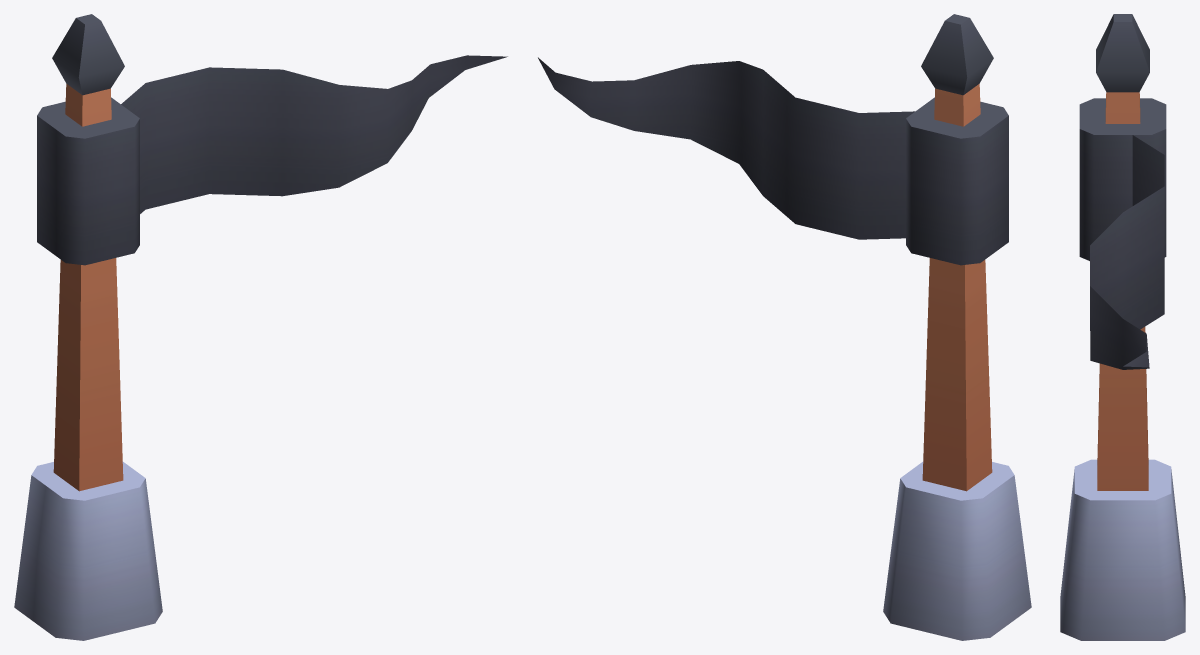
File: kenney-pirate-flag-pirate-pennant.glb
3 renders of one model, left to right at view 1: azimuth 30°, elevation 25°; view 2: azimuth 150°, elevation 25°; view 3: azimuth 270°, elevation 25°, orthographic.
Parts seen in each view (by area): view 1: flag-pirate-pennant; view 2: flag-pirate-pennant; view 3: flag-pirate-pennant.
Boxes of the visible parts, x1,y1,x2,y2 form: flag-pirate-pennant: [14, 14, 507, 640]; flag-pirate-pennant: [538, 14, 1031, 640]; flag-pirate-pennant: [1060, 14, 1185, 640].
Bounding box in the file's own units: 1.76 × 2.1 × 0.3988.
1 material, 1 textured.
